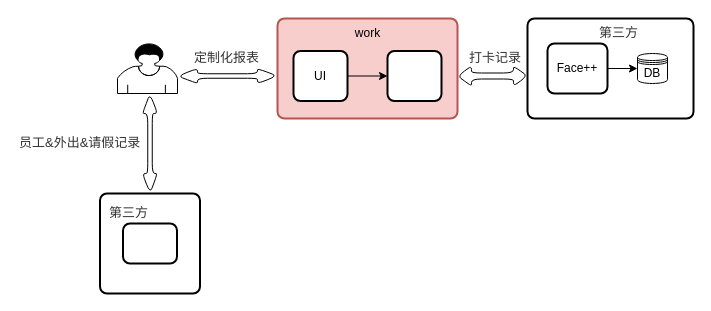
Some shapes in this 711 by 311 pixel diagram are drawn without their labels. Here are the shapes that lost their labels. From the top down, the box of each, then its label:
(386, 50, 442, 102): Service
(122, 222, 178, 264): 钉钉
